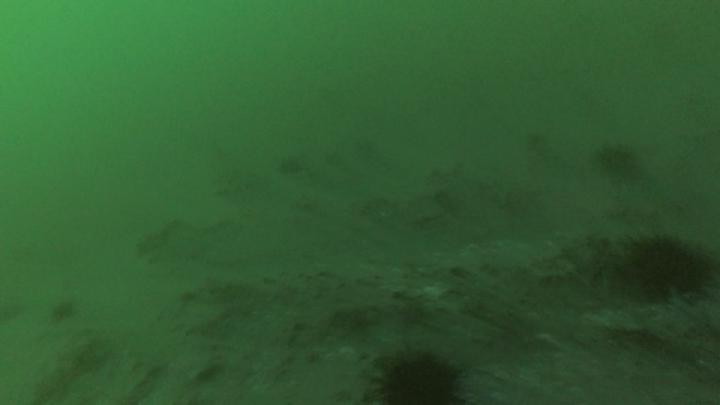echinus: (362, 335, 472, 405), (619, 228, 718, 304)
